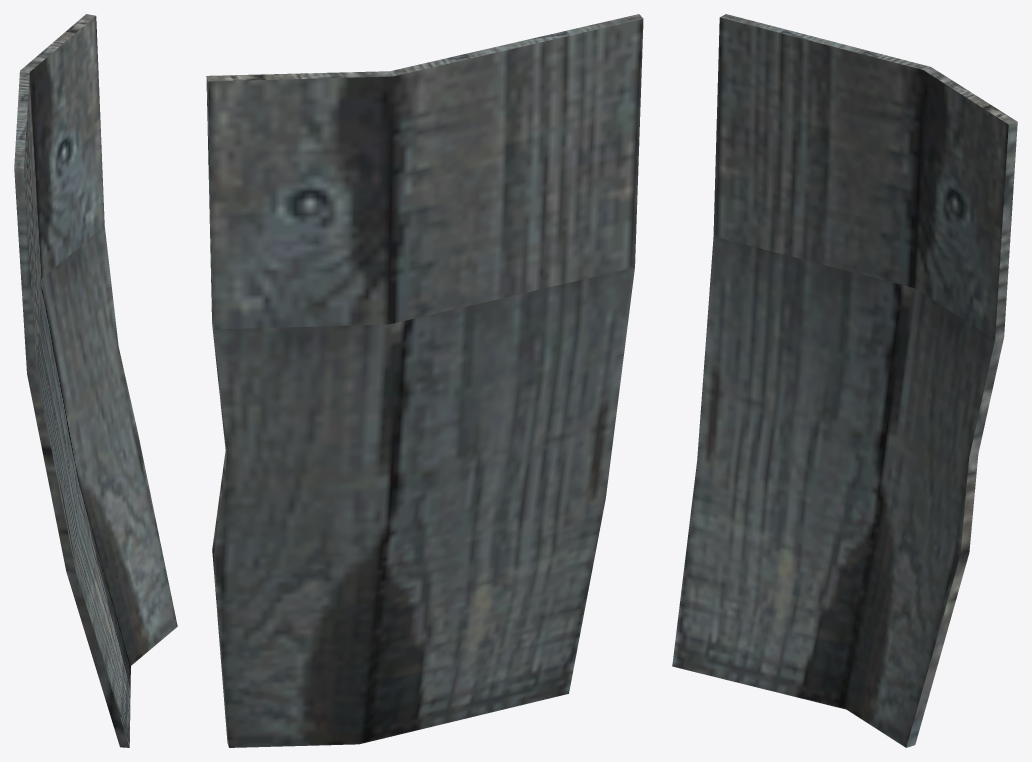
Rendered from flower_barrel_dead_p3.glb.
The picture shows the model from 3 angles, left to right: view 1: azimuth 30°, elevation 25°; view 2: azimuth 150°, elevation 25°; view 3: azimuth 270°, elevation 25°; orthographic projection. The views are drawn at different scales.
Visible parts, largest first — view 1: flower_barrel_dead_p3; view 2: flower_barrel_dead_p3; view 3: flower_barrel_dead_p3.
Boxes of the visible parts, x1=… form: flower_barrel_dead_p3: x1=14, y1=14, x2=177, y2=747; flower_barrel_dead_p3: x1=206, y1=14, x2=643, y2=747; flower_barrel_dead_p3: x1=672, y1=14, x2=1017, y2=747.
Bounding box in the file's own units: 0.1971 × 0.439 × 0.2265.
Materials: 1 (1 with a texture image).
